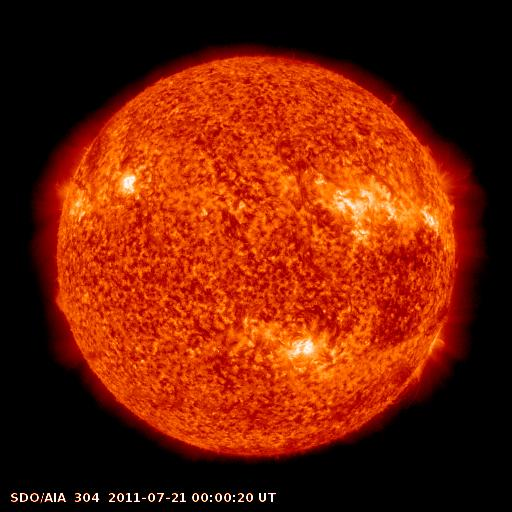prominence: (43, 283, 79, 323)
